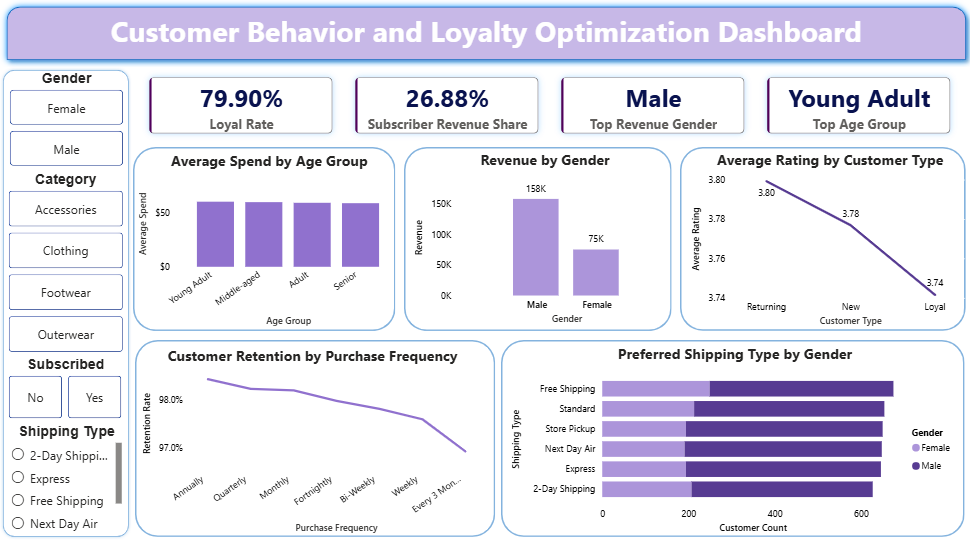

The dashboard page shown, as its layout file describes it:
{"tool":"powerbi","page":{"name":"Customer Behaviour and Loyalty Insights Dashboard","canvas":[1280,720],"ordinal":1},"visuals":[{"type":"shape","box":[0,0,1280.2,87.8],"z":0},{"type":"textbox","box":[0,10.1,1280.2,77.8],"z":1000},{"type":"shape","box":[0,88.1,173.4,622.1],"z":2000},{"type":"advancedSlicerVisual","fields":{"Values":["retail_customer_intelligence_cleaned.category"]},"box":[6.2,224.6,160,243.1],"z":3000},{"type":"advancedSlicerVisual","fields":{"Values":["retail_customer_intelligence_cleaned.subscription_status"]},"box":[7.2,468,159.8,87.8],"z":4000},{"type":"listSlicer","fields":{"Values":["retail_customer_intelligence_cleaned.shipping_type"]},"box":[9.6,556,156.9,151.4],"z":5000},{"type":"cardVisual","fields":{"Data":["retail_customer_intelligence_cleaned.Loyal Customer %","retail_customer_intelligence_cleaned.Subscriber Revenue %","retail_customer_intelligence_cleaned.Best Performing Customer Segment by Gender","retail_customer_intelligence_cleaned.Best Performing Customer Segment by Age Group"]},"box":[167.9,74.3,1112.1,130.8],"z":7000},{"type":"shape","box":[174.8,194.1,345.5,242.2],"z":8000},{"type":"shape","box":[531.1,194.1,352.3,242.2],"z":9000},{"type":"shape","box":[894.2,194.1,375.8,241.9],"z":10000},{"type":"clusteredColumnChart","fields":{"Category":["retail_customer_intelligence_cleaned.gender"],"Y":["Sum(retail_customer_intelligence_cleaned.purchase_amount)"]},"box":[541.4,197.7,352.9,234.5],"z":11000},{"type":"lineChart","title":"Average Rating by Customer Type","fields":{"Y":["retail_customer_intelligence_cleaned.Average Rating"],"Category":["retail_customer_intelligence_cleaned.Customer Segment"]},"box":[905.8,197.3,374.4,237.6],"z":12000},{"type":"lineChart","title":"Customer Retention by Purchase Frequency","fields":{"Category":["retail_customer_intelligence_cleaned.frequency_of_purchases"],"Y":["Customer Summary.Retention Rate by Frequency %"]},"box":[183.1,455.6,456.9,251.9],"z":13000},{"type":"shape","box":[178,447.7,473.9,259.2],"z":14000},{"type":"shape","box":[659.8,447.7,610,259.2],"z":15000},{"type":"barChart","title":"Preferred Shipping Type by Gender","fields":{"Series":["retail_customer_intelligence_cleaned.gender"],"Category":["retail_customer_intelligence_cleaned.shipping_type"],"Y":["retail_customer_intelligence_cleaned.Customer Count"]},"box":[668.9,452.8,597.3,254.6],"z":16000},{"type":"clusteredColumnChart","title":"Average Spend by Age Group","fields":{"Category":["retail_customer_intelligence_cleaned.age_group"],"Y":["retail_customer_intelligence_cleaned.Average Purchase Amount"]},"box":[177.5,198.2,353.7,235.4],"z":17000},{"type":"advancedSlicerVisual","fields":{"Values":["retail_customer_intelligence_cleaned.gender"]},"box":[8.3,92.2,159.7,132.1],"z":18000}]}

Visuals, with their boxes in screenshot pixels (x1, y1, x2, y2), scaled from the page's 1280x720 canvas onto the 970x545 screenshot:
shape: 0 0 969 66
textbox: 0 8 969 67
shape: 0 67 131 538
advancedSlicerVisual - retail_customer_intelligence_cleaned.category: 5 170 126 354
advancedSlicerVisual - retail_customer_intelligence_cleaned.subscription_status: 5 354 127 421
listSlicer - retail_customer_intelligence_cleaned.shipping_type: 7 421 126 535
cardVisual - retail_customer_intelligence_cleaned.Loyal Customer % x retail_customer_intelligence_cleaned.Subscriber Revenue %: 127 56 969 155
shape: 132 147 394 330
shape: 402 147 669 330
shape: 678 147 962 330
clusteredColumnChart - retail_customer_intelligence_cleaned.gender x Sum(retail_customer_intelligence_cleaned.purchase_amount): 410 150 678 327
"Average Rating by Customer Type" lineChart: 686 149 969 329
"Customer Retention by Purchase Frequency" lineChart: 139 345 485 536
shape: 135 339 494 535
shape: 500 339 962 535
"Preferred Shipping Type by Gender" barChart: 507 343 960 535
"Average Spend by Age Group" clusteredColumnChart: 135 150 403 328
advancedSlicerVisual - retail_customer_intelligence_cleaned.gender: 6 70 127 170
